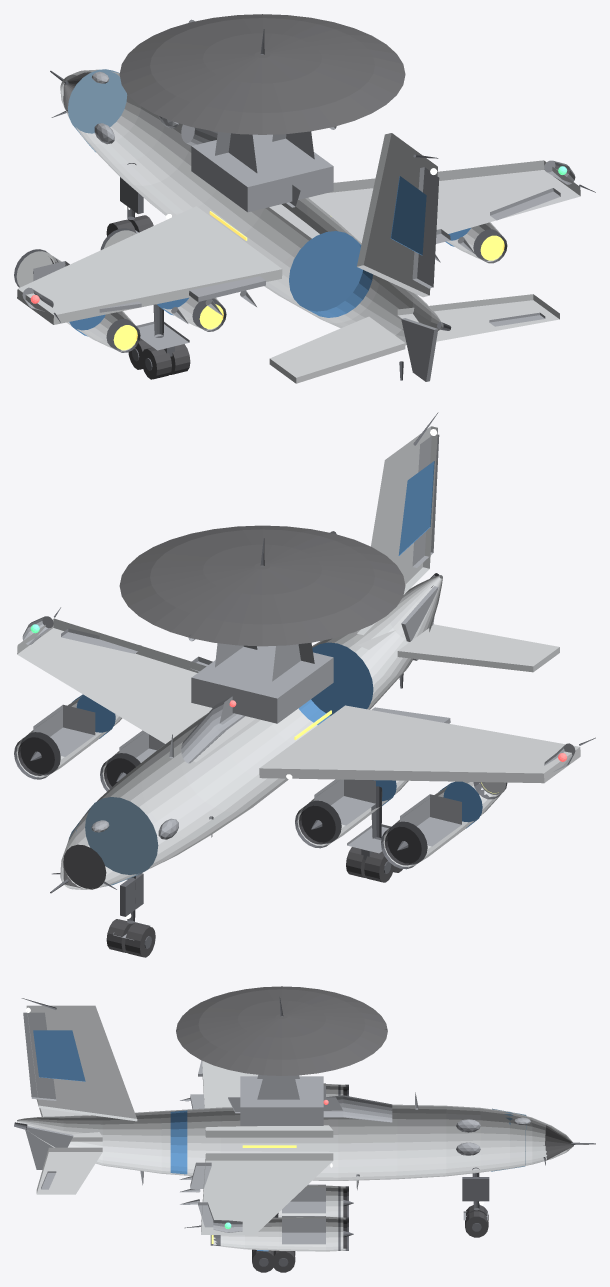
File: skywatch_airborne_early_warning.glb
3 renders of one model, top to bottom at view 1: azimuth 30°, elevation 25°; view 2: azimuth 150°, elevation 25°; view 3: azimuth 270°, elevation 25°, orthographic. The views are drawn at different scales.
Parts seen in each view (by area): view 1: m_064, m_000, m_009, m_019, m_063, m_068, m_007, m_074, m_076, m_002, m_070, m_069 (+15 smaller); view 2: m_064, m_000, m_009, m_019, m_063, m_068, m_074, m_002, m_007, m_070, m_053, m_037 (+15 smaller); view 3: m_000, m_064, m_019, m_068, m_063, m_009, m_054, m_076, m_071, m_069, m_003, m_053 (+13 smaller).
Boxes of the visible parts, x1,y1,x2,y2 form: m_064: (119, 14, 405, 134); m_000: (60, 69, 442, 345); m_009: (17, 206, 282, 324); m_019: (269, 160, 580, 242); m_063: (191, 134, 333, 212); m_068: (356, 133, 437, 297); m_007: (289, 231, 372, 317); m_074: (269, 316, 405, 383); m_076: (397, 294, 559, 341); m_002: (68, 69, 138, 152); m_070: (390, 176, 426, 255); m_069: (412, 167, 439, 288); m_064: (119, 525, 405, 646); m_000: (60, 575, 442, 889); m_009: (259, 705, 580, 783); m_019: (17, 618, 255, 762); m_063: (191, 646, 333, 723); m_068: (356, 426, 437, 635); m_074: (397, 624, 559, 672); m_002: (68, 797, 158, 885); m_007: (298, 642, 373, 724); m_070: (398, 461, 434, 555); m_053: (33, 704, 95, 756); m_037: (400, 794, 461, 846); m_000: (17, 1104, 573, 1180); m_064: (176, 986, 387, 1075); m_019: (201, 1153, 333, 1234); m_068: (26, 1005, 137, 1121); m_063: (240, 1076, 323, 1125); m_009: (202, 1060, 333, 1137); m_054: (213, 1216, 345, 1251); m_076: (36, 1147, 102, 1194); m_071: (33, 1030, 85, 1081); m_069: (23, 1012, 56, 1100); m_003: (323, 1095, 392, 1122); m_053: (282, 1216, 325, 1244).
Size of the model in its own units: 9.46 by 5.28 by 11.86.
